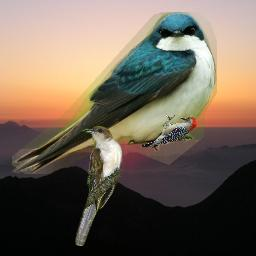Cuckoo: (75, 126, 123, 246)
Swallow: (12, 12, 217, 174)
Woodpecker: (142, 114, 198, 149)
